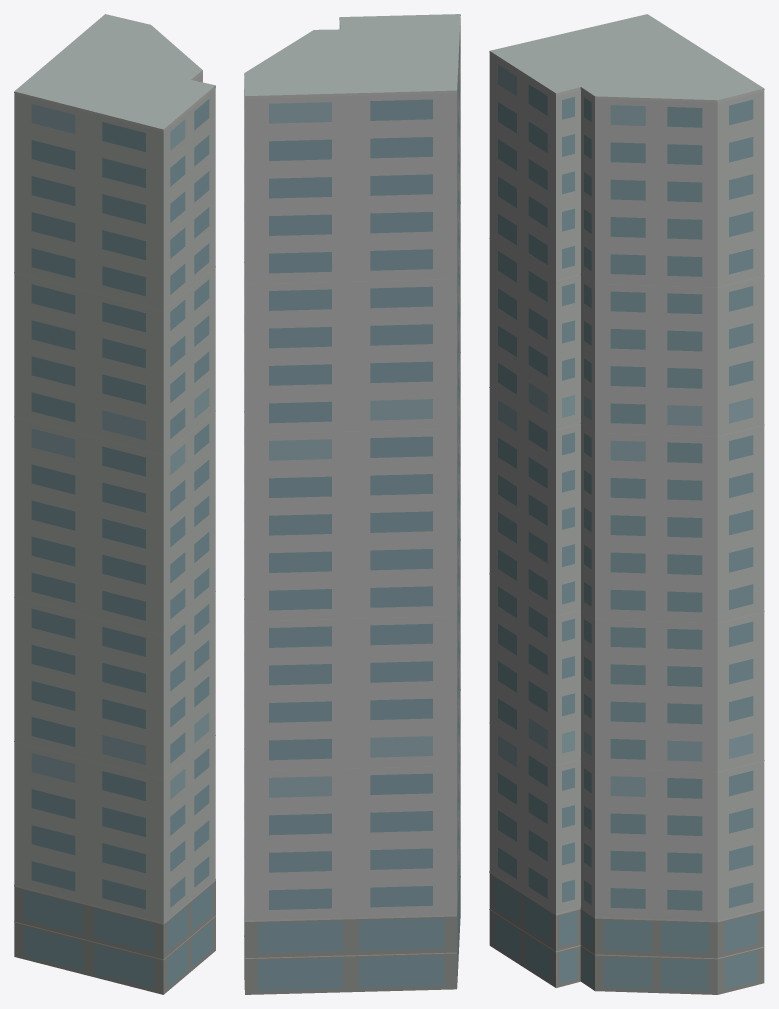
File: survey-upis-32966056.glb
The picture shows the model from 3 angles, left to right: view 1: azimuth 30°, elevation 25°; view 2: azimuth 150°, elevation 25°; view 3: azimuth 270°, elevation 25°; orthographic projection. The views are drawn at different scales.
Visible parts, largest first — view 1: survey-upis-32966056.tmp; view 2: survey-upis-32966056.tmp; view 3: survey-upis-32966056.tmp.
Part boxes in pixels (<box>): survey-upis-32966056.tmp: <box>14,14,215,994</box>; survey-upis-32966056.tmp: <box>244,14,460,994</box>; survey-upis-32966056.tmp: <box>489,14,764,994</box>.
Bounding box in the file's own units: 15.15 × 73.2 × 20.4.
